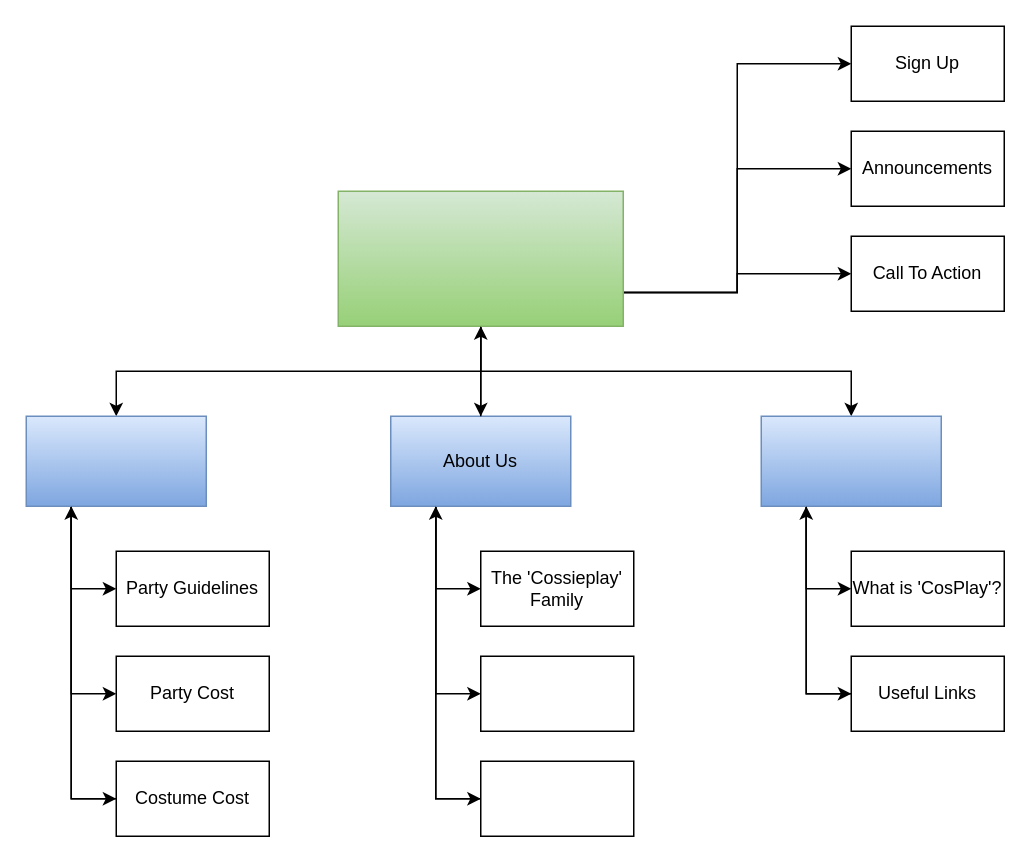
This 1031x863 diagram has some shape labels left out. Here are the shapes that lost their labels. From the top down, the centre of each, then its label:
the point at 480,258: Home/index (call to action) (announcements) (sign up)
the point at 115,460: Products
the point at 850,460: Useful Information
the point at 556,693: Contact Details
the point at 556,798: About 'Cossieplay'
